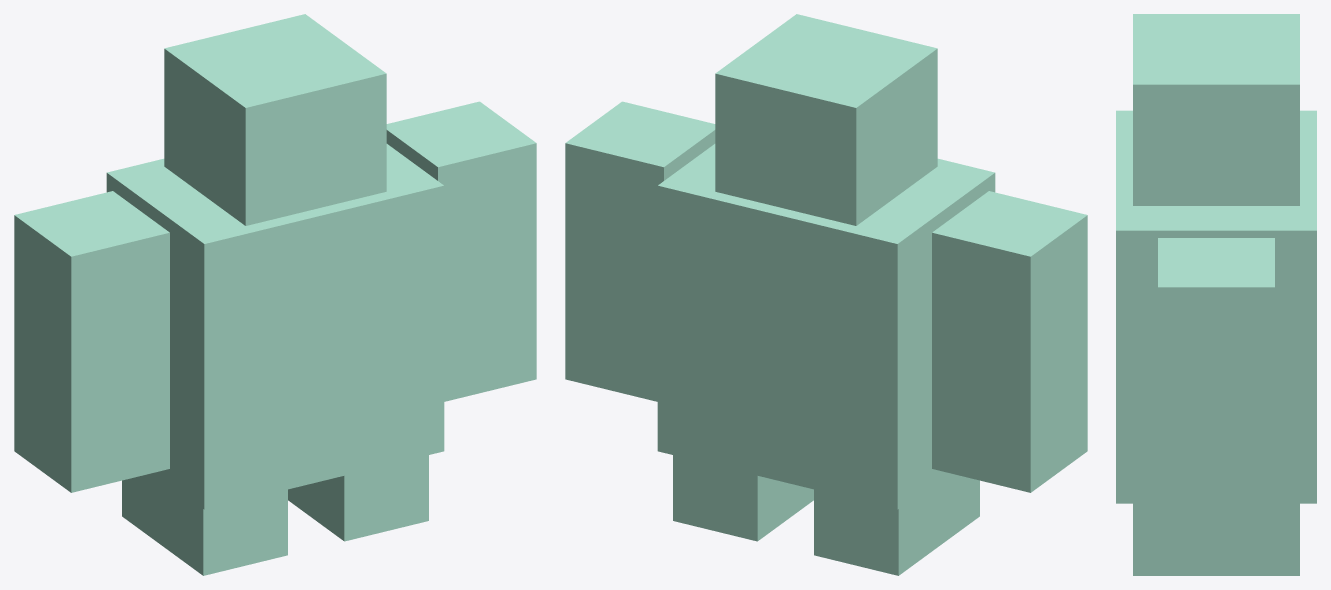
The model's file is heavy.gltf.
The picture shows the model from 3 angles, left to right: view 1: azimuth 30°, elevation 25°; view 2: azimuth 150°, elevation 25°; view 3: azimuth 270°, elevation 25°; orthographic projection. The views are drawn at different scales.
Visible parts, largest first — view 1: heavy; view 2: heavy; view 3: heavy.
Boxes of the visible parts, <box> form: heavy: <box>14,14,536,575</box>; heavy: <box>565,14,1087,575</box>; heavy: <box>1116,14,1316,575</box>.
Bounding box in the file's own units: 1.65 × 1.55 × 0.6.
